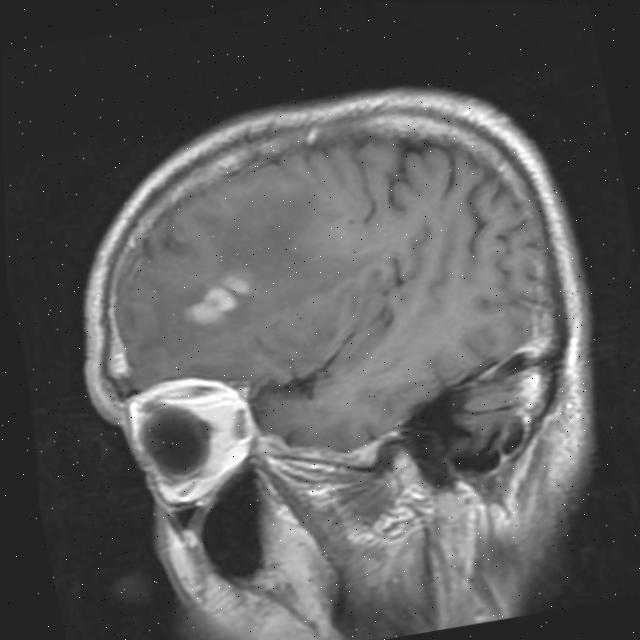Glioma: (175, 269, 257, 326)
